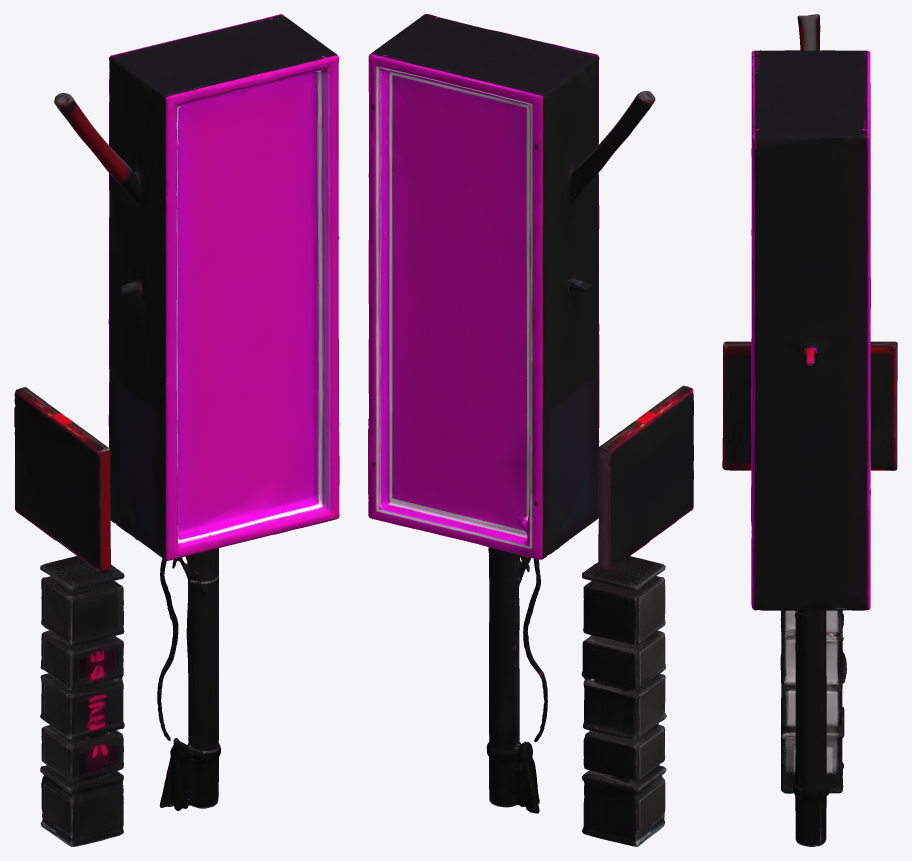
The model's file is ximen_neon_vertical_01.glb.
3 renders of one model, left to right at view 1: azimuth 30°, elevation 25°; view 2: azimuth 150°, elevation 25°; view 3: azimuth 270°, elevation 25°, orthographic. The views are drawn at different scales.
Size of the model in its own units: 0.7976 by 2 by 0.4186.
1 material, 1 textured.
